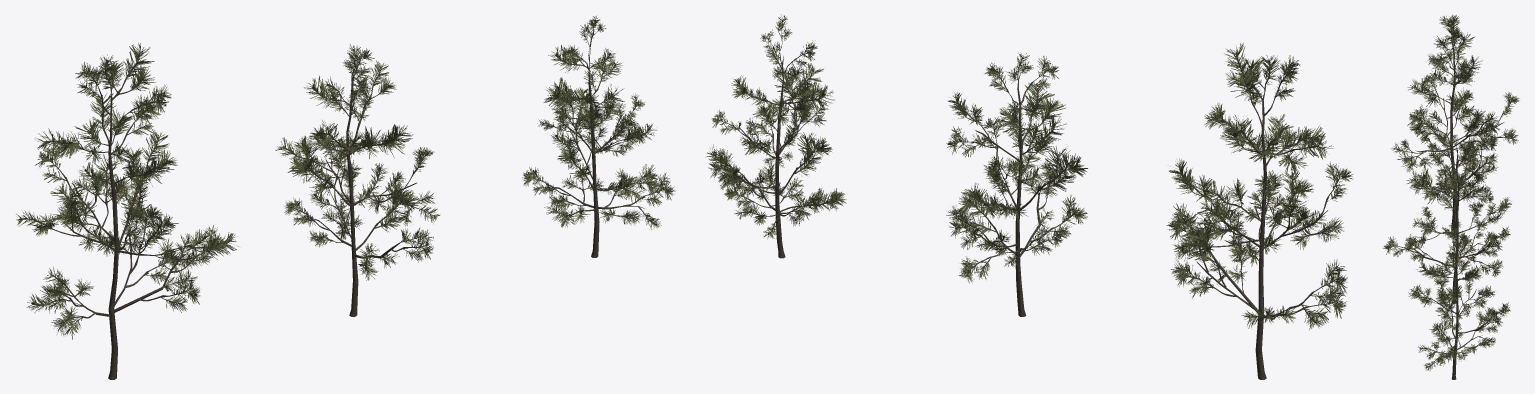
Rendered from pine_sapling_small.glb.
3 views of the same model, side by side, from view 1: azimuth 30°, elevation 25°; view 2: azimuth 150°, elevation 25°; view 3: azimuth 270°, elevation 25° (orthographic). The views are drawn at different scales.
Parts seen in each view (by area): view 1: pine_sapling_small_a, pine_sapling_small_b, pine_sapling_small_c; view 2: pine_sapling_small_a, pine_sapling_small_b, pine_sapling_small_c; view 3: pine_sapling_small_a, pine_sapling_small_b, pine_sapling_small_c.
Boxes of the visible parts, x1=… form: pine_sapling_small_a: x1=16, y1=43, x2=239, y2=379; pine_sapling_small_b: x1=275, y1=44, x2=440, y2=316; pine_sapling_small_c: x1=522, y1=16, x2=675, y2=257; pine_sapling_small_a: x1=1166, y1=43, x2=1353, y2=379; pine_sapling_small_b: x1=946, y1=52, x2=1087, y2=316; pine_sapling_small_c: x1=705, y1=14, x2=846, y2=258; pine_sapling_small_a: x1=1390, y1=14, x2=1519, y2=230; pine_sapling_small_b: x1=1383, y1=133, x2=1511, y2=304; pine_sapling_small_c: x1=1408, y1=223, x2=1510, y2=379.
Bounding box in the file's own units: 2.64 × 1.3 × 0.7703.
2 materials, 2 textured.
